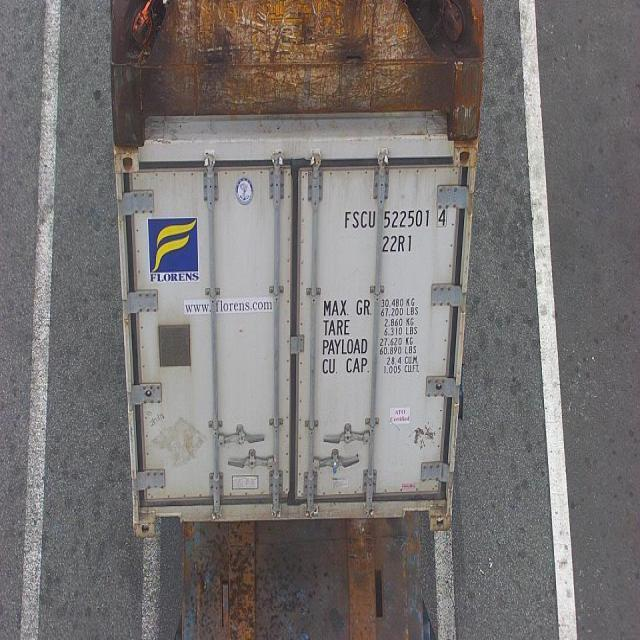ISO: (380, 234, 414, 253)
container_number: (342, 210, 451, 230)
